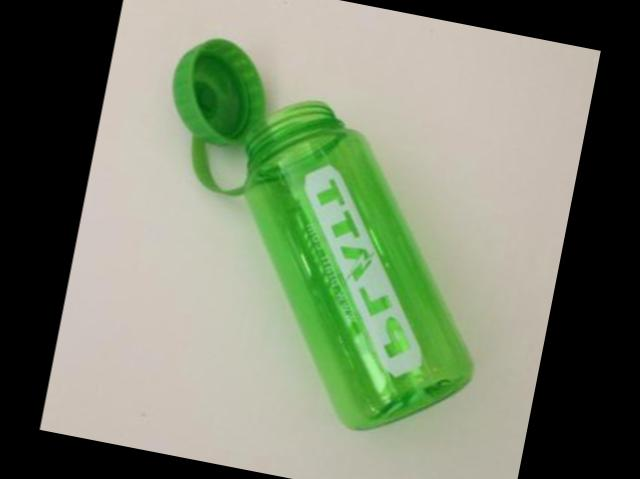plastic: (172, 36, 470, 426)
